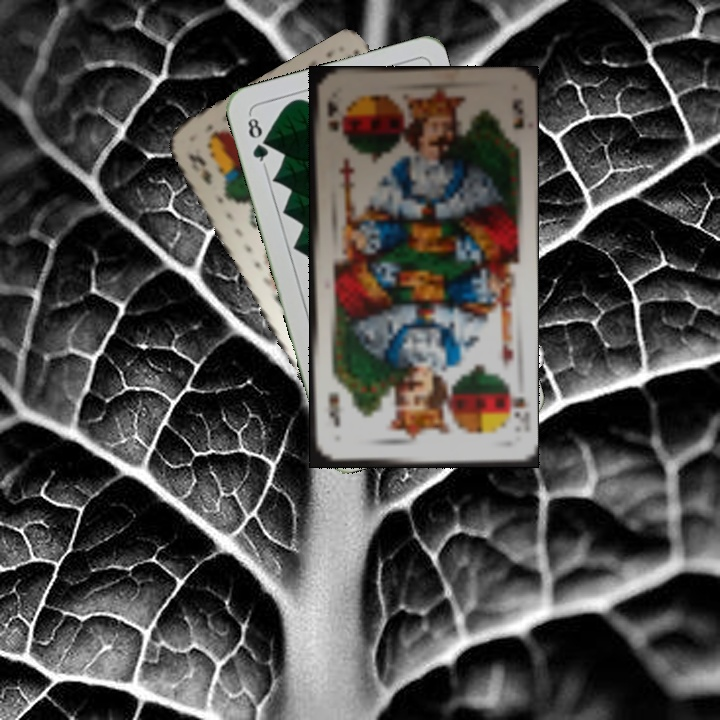EK: (184, 148, 215, 188)
G8: (243, 111, 272, 169)
SK: (503, 381, 530, 430), (322, 96, 340, 134)
